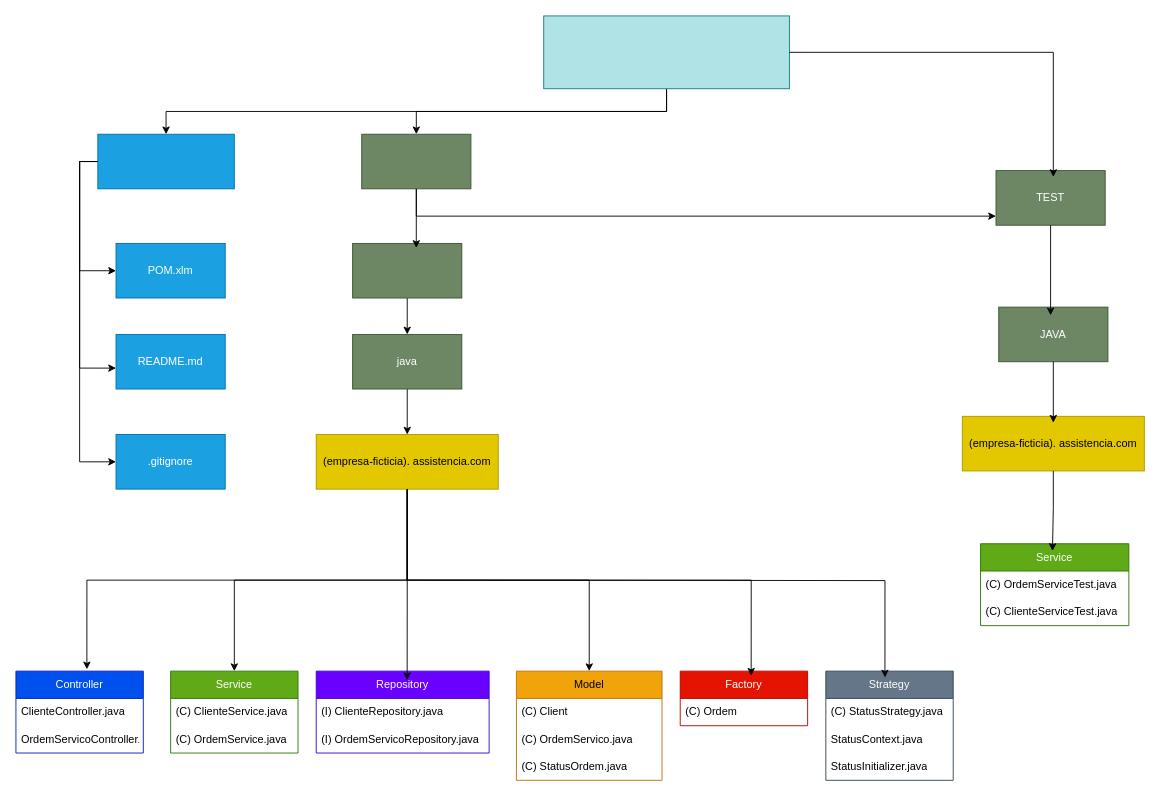
Image size: 1160x796. Some labels were removed from this diagram. The centre of each missing label's shape, as x and y in pixels:
"Assistencai-tecnica-API" belongs at (165,161).
"ESTRUTURA PROJETO assistencia - tecnica - API" belongs at (666,52).
"Main" belongs at (407,270).
"SRC" belongs at (416,161).
